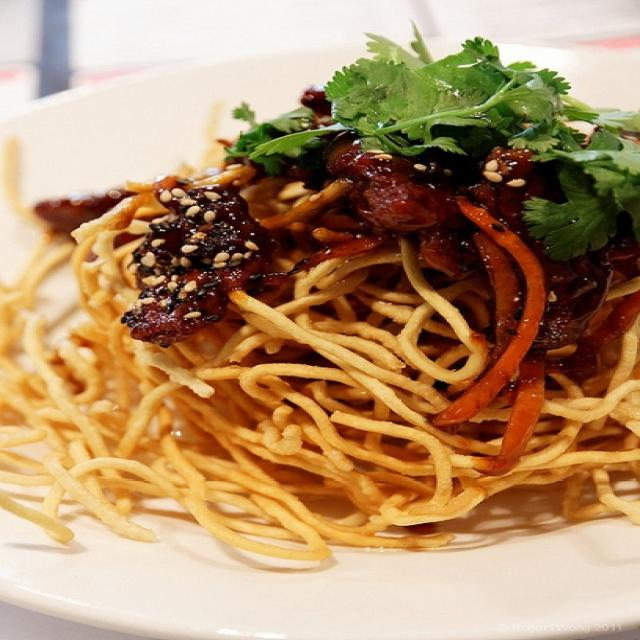面条主食: (4, 34, 634, 568)
